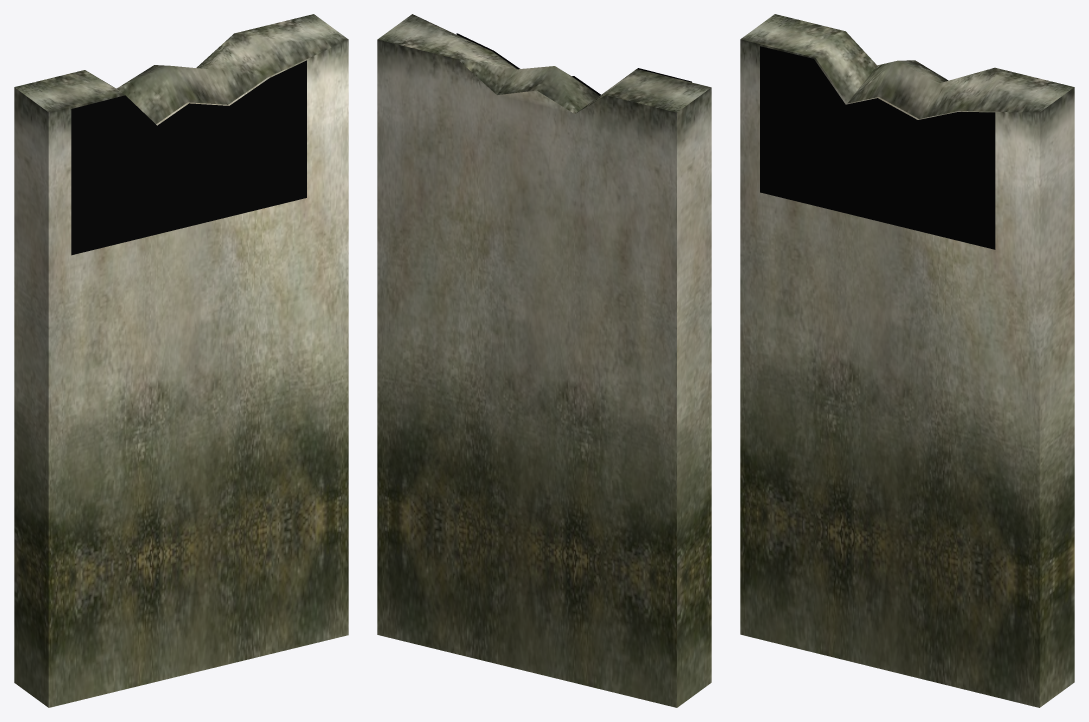
File: pir_m_bld_wal_stuccoTall10_burned.fbx
3 renders of one model, left to right at view 1: azimuth 30°, elevation 25°; view 2: azimuth 150°, elevation 25°; view 3: azimuth 330°, elevation 25°, orthographic.
Parts seen in each view (by area): view 1: TallWallBaseMesh, cracks; view 2: TallWallBaseMesh; view 3: TallWallBaseMesh, cracks.
Boxes of the visible parts, x1,y1,x2,y2 form: TallWallBaseMesh: [14, 14, 348, 707]; cracks: [71, 60, 306, 255]; TallWallBaseMesh: [377, 14, 711, 707]; TallWallBaseMesh: [740, 14, 1074, 707]; cracks: [760, 46, 995, 249].
Bounding box in the file's own units: 1001 × 1900 × 209.
2 materials, 2 textured.
